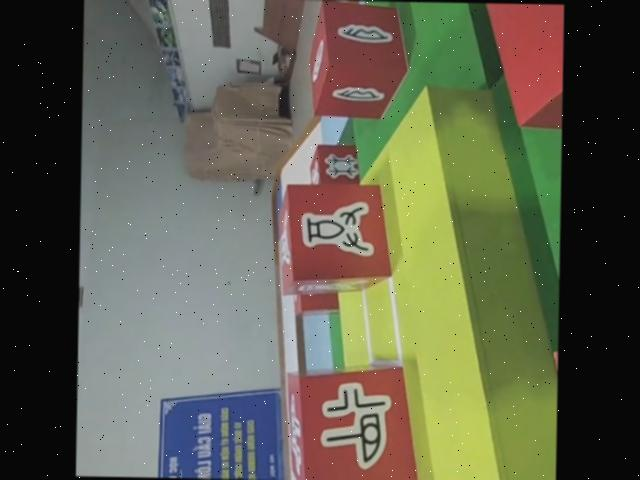R2 Real: (285, 364, 420, 480), (278, 183, 395, 296), (309, 0, 408, 115), (310, 140, 366, 184)
